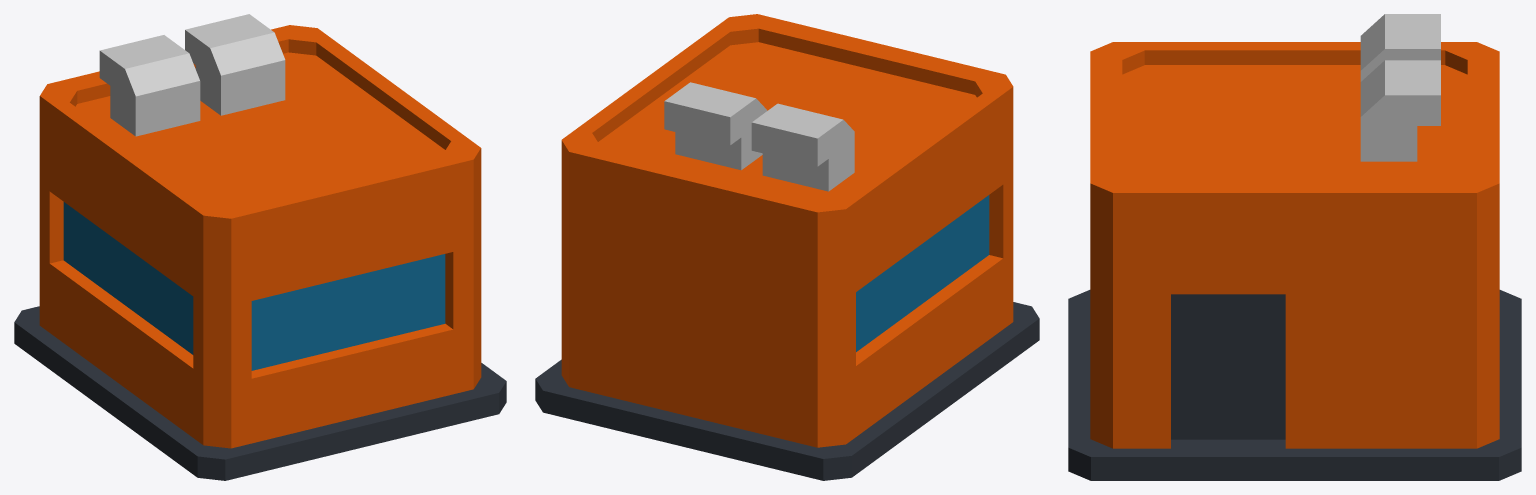
The model's file is Building_03.FBX.
3 renders of one model, left to right at view 1: azimuth 30°, elevation 25°; view 2: azimuth 150°, elevation 25°; view 3: azimuth 270°, elevation 25°, orthographic. The views are drawn at different scales.
Visible parts, largest first — view 1: Building_03; view 2: Building_03; view 3: Building_03.
Boxes of the visible parts, x1=… form: Building_03: x1=14, y1=14, x2=506, y2=480; Building_03: x1=535, y1=14, x2=1039, y2=480; Building_03: x1=1068, y1=14, x2=1521, y2=480.
Bounding box in the file's own units: 5.82 × 5.36 × 6.65.
